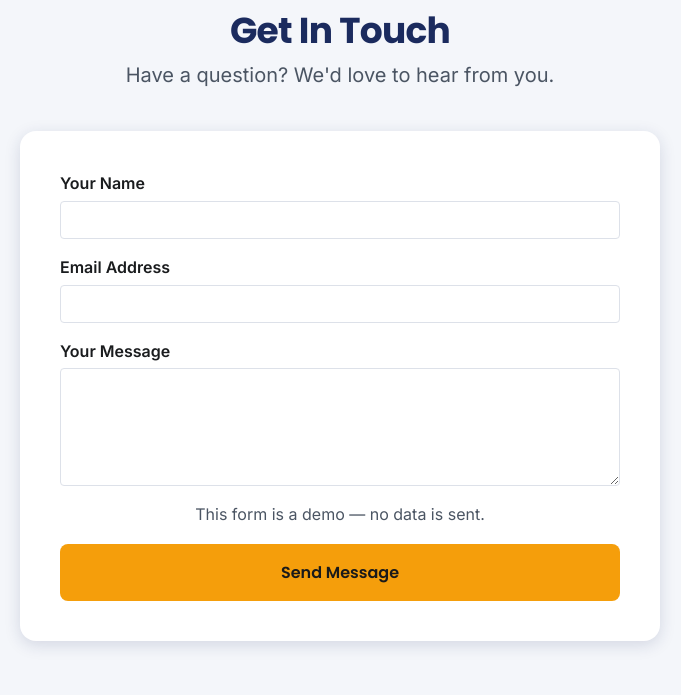
ContactSection › shows error when email field is empty on submit
The width and height of the screenshot is (681, 695).
In the field labelled "Your Name": (340, 220) [60, 201, 620, 239], type "Alice Smith"
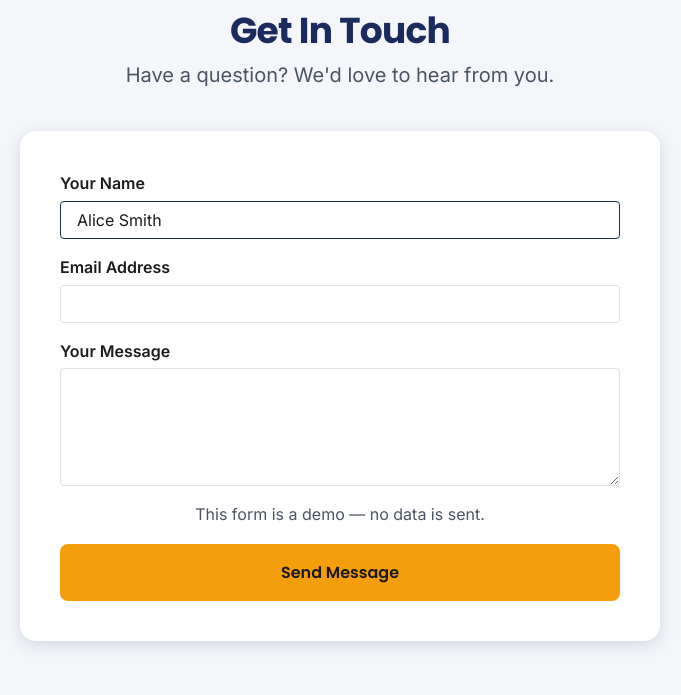
In the text box labelled "Your Message": (340, 427) [60, 368, 620, 486], type "Hello, I have a question."
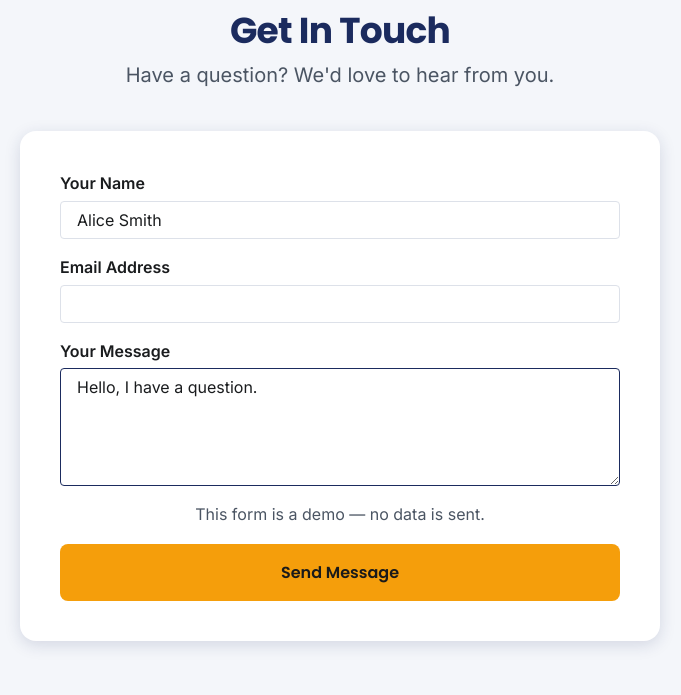
Click the button "Send Message": (340, 572) [60, 544, 620, 601]
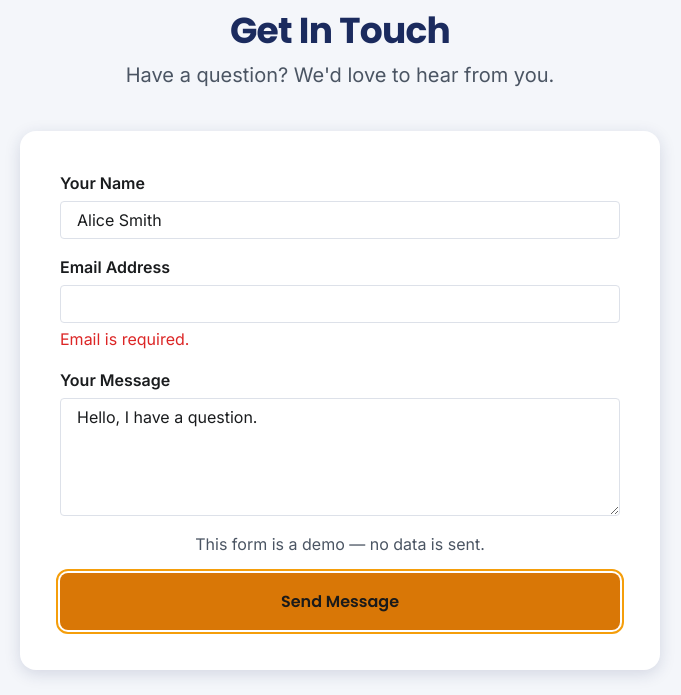
Result: the text "Email is required." is shown at [60, 329, 189, 349]
